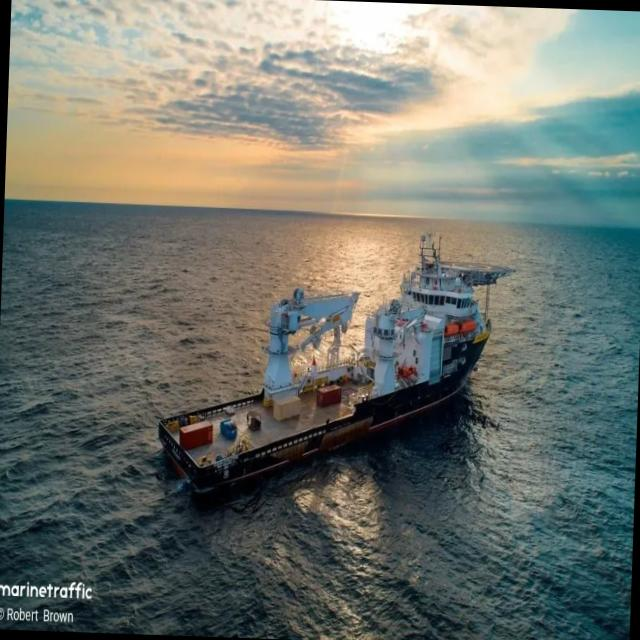Offshore: (157, 234, 513, 495)
